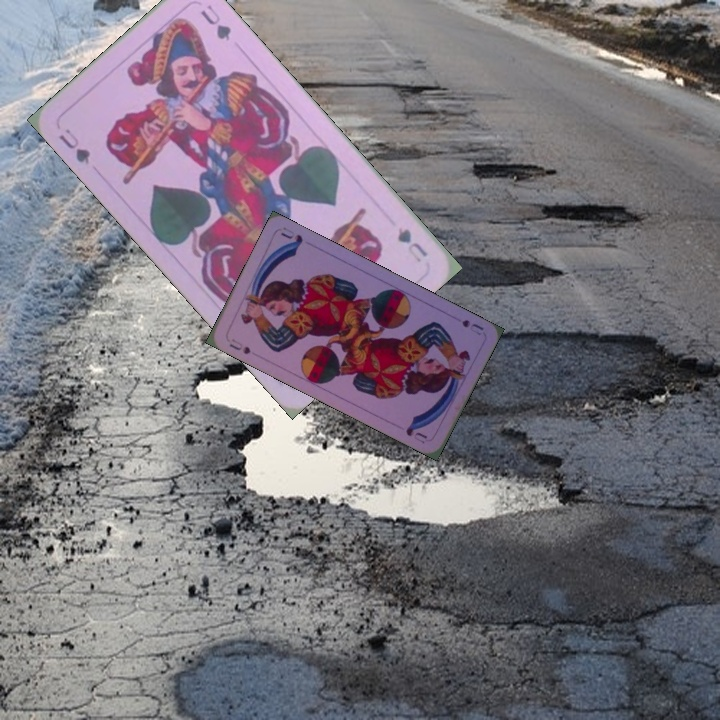GU: (55, 124, 94, 167), (393, 223, 430, 265)
SU: (458, 315, 486, 338), (225, 334, 253, 357)
